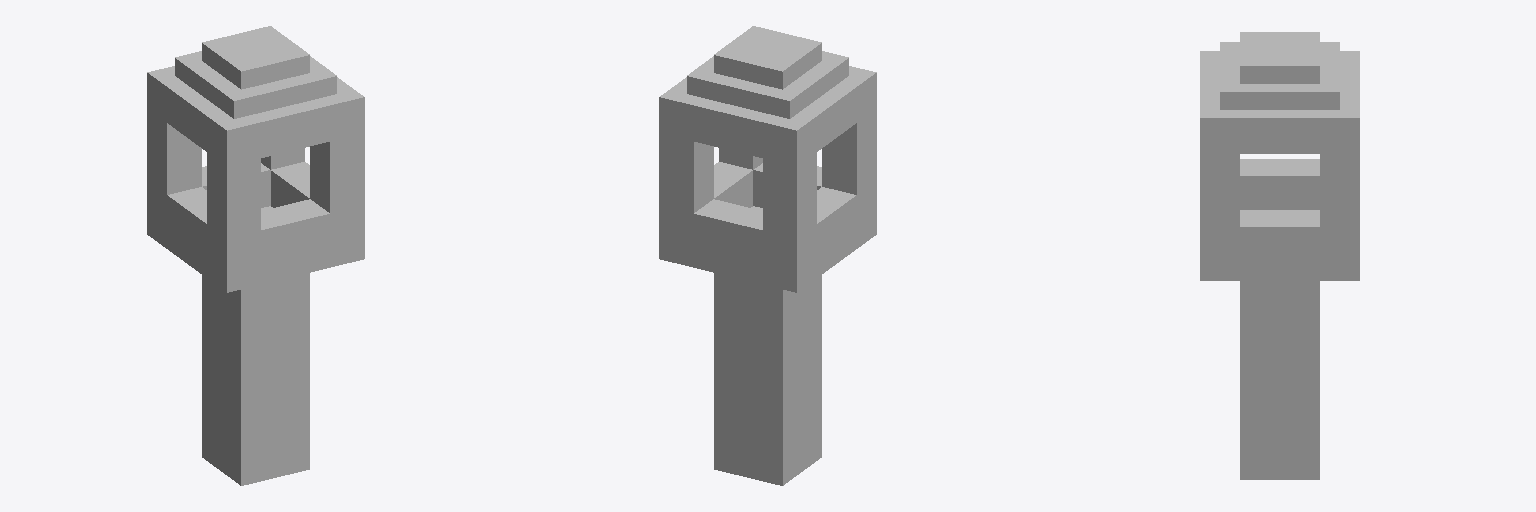
The model's file is Tower.obj.
3 views of the same model, side by side, from view 1: azimuth 30°, elevation 25°; view 2: azimuth 150°, elevation 25°; view 3: azimuth 270°, elevation 25° (orthographic).
Size of the model in its own units: 8 by 23 by 8.